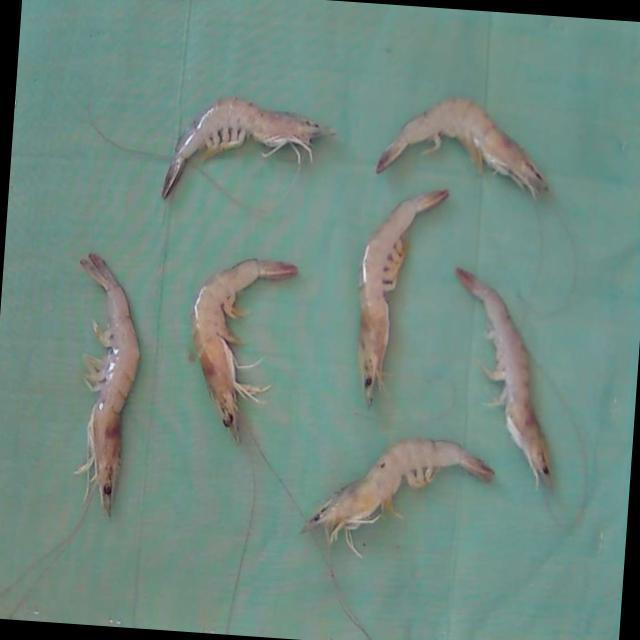shrimp: (301, 439, 494, 558), (456, 268, 552, 489), (359, 189, 449, 405), (193, 258, 297, 441), (377, 97, 550, 199), (161, 97, 334, 198), (75, 253, 139, 516)
